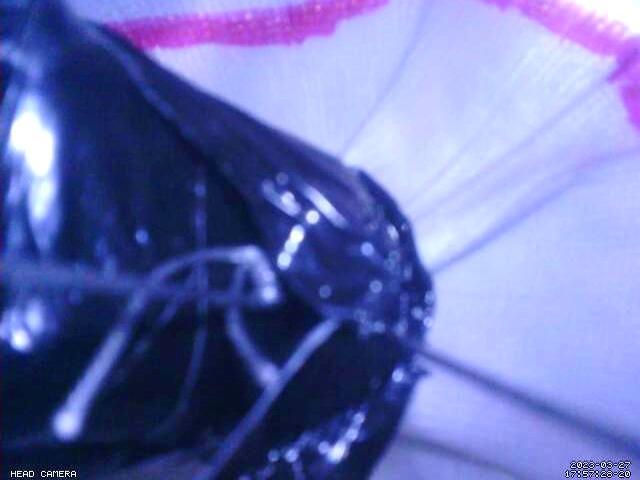red-circle: (102, 1, 640, 131)
